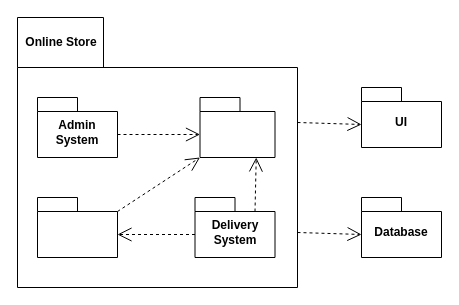
Image size: 459x305. Some labels were removed from this diagram. Here are the shapes that lost their labels. From the top down, the centre of each, then its label:
(237,127): Login System
(77,227): Order System
